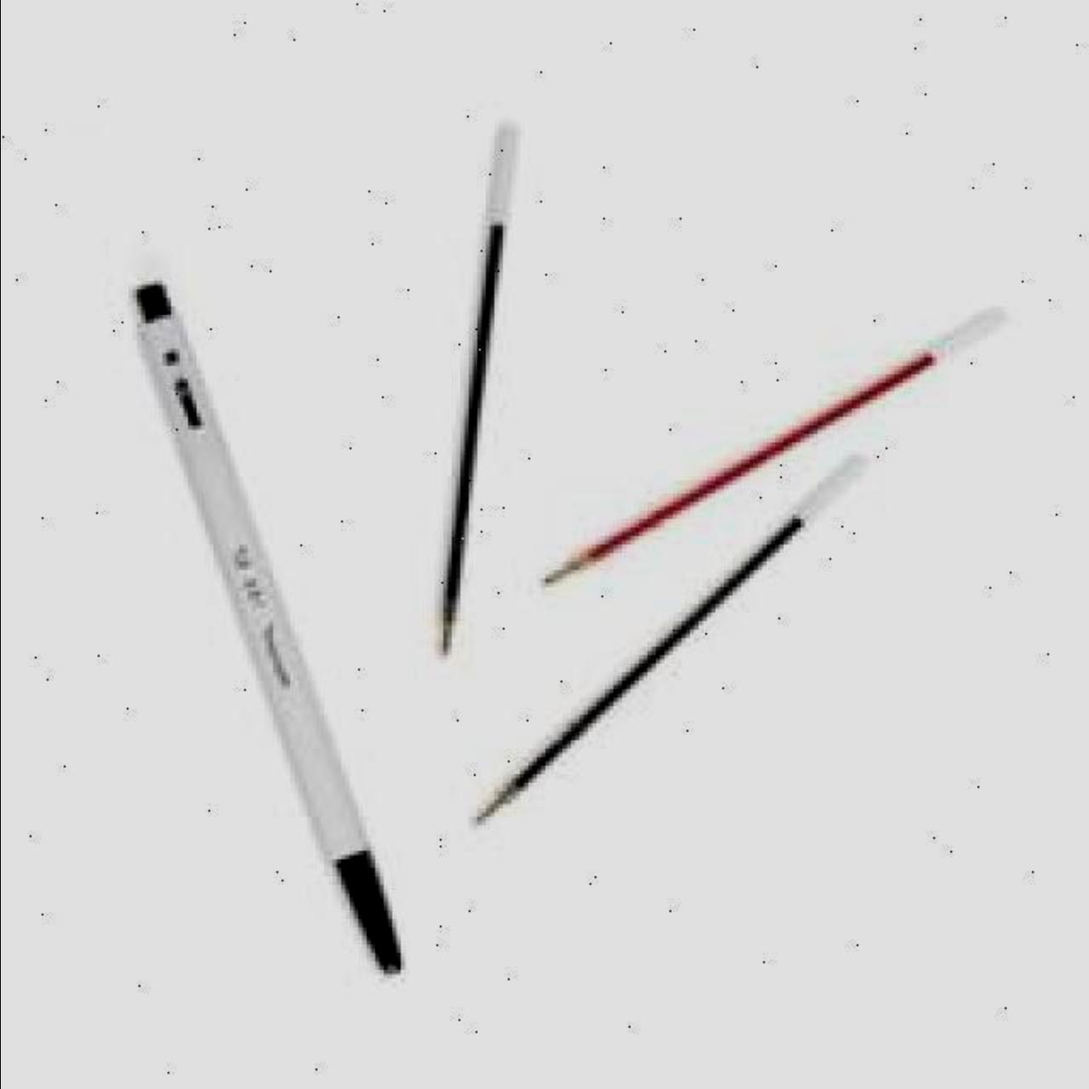pen: (117, 276, 403, 978)
